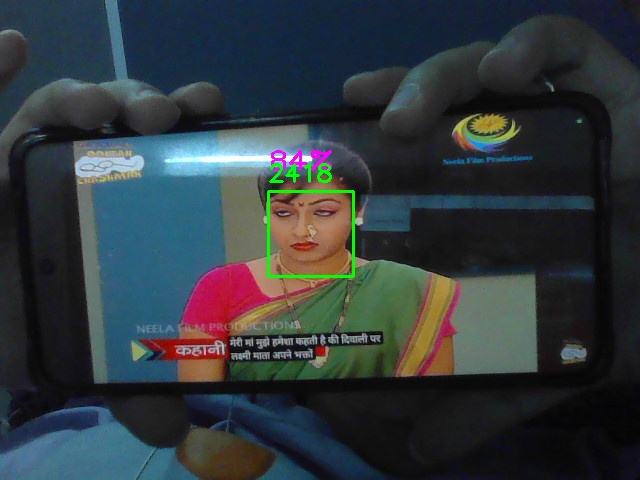fake: (268, 191, 354, 277)
